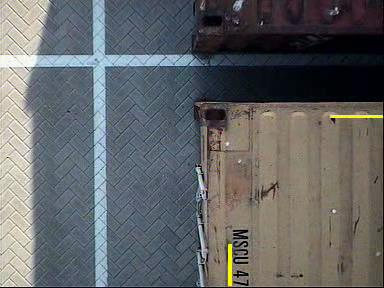groundmarker_2: (96, 56, 192, 117)
